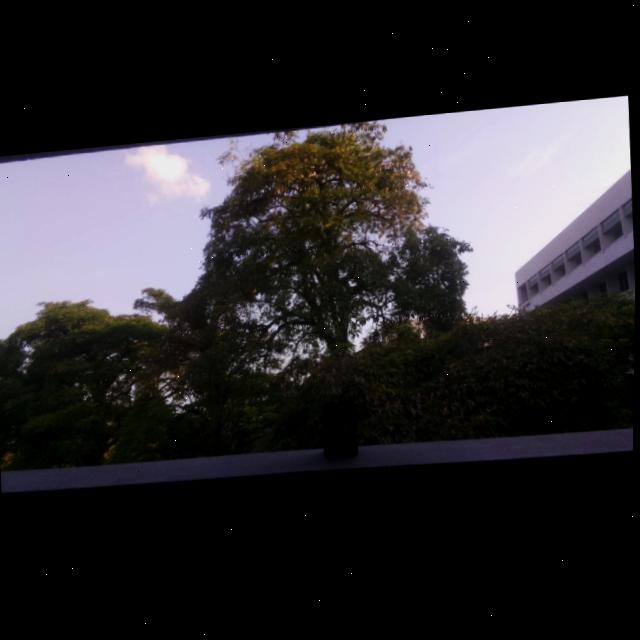F: (336, 420, 347, 437)
